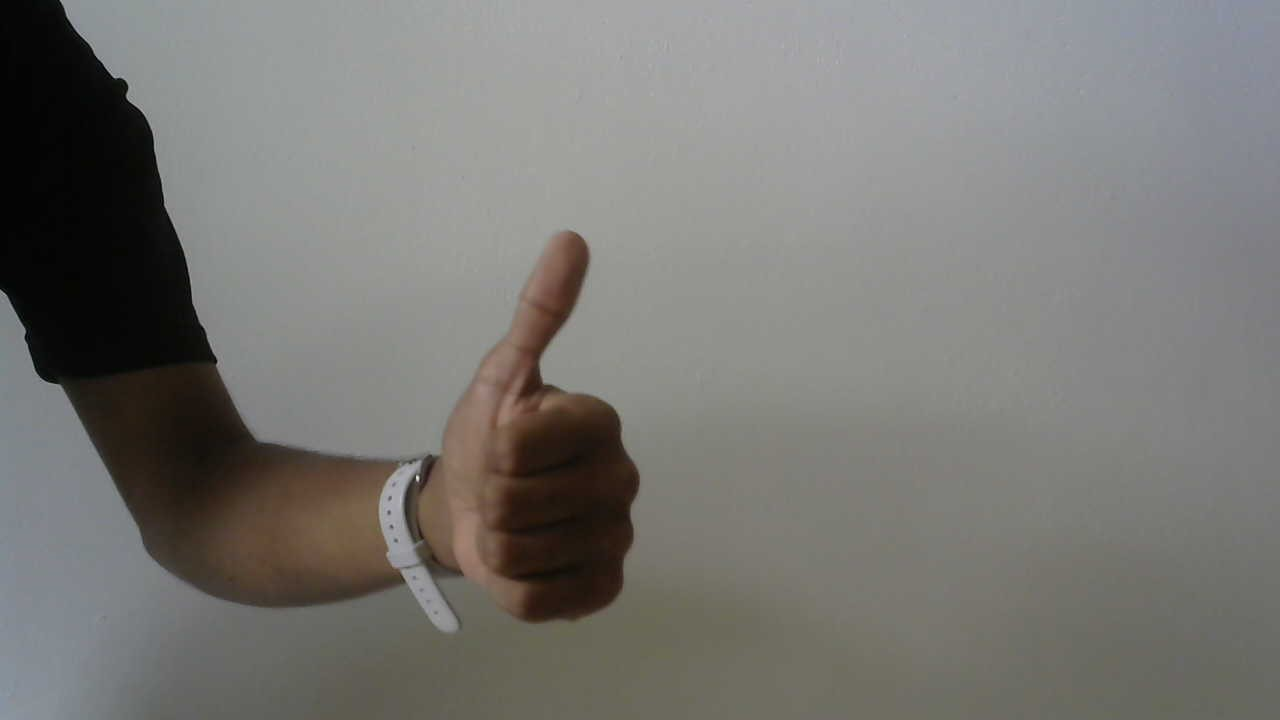thumbsup: (426, 218, 677, 657)
